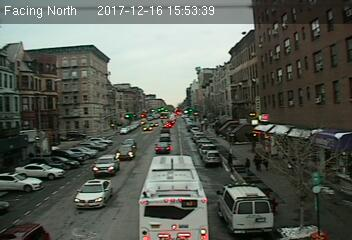bus: (137, 155, 210, 240)
car: (74, 178, 112, 207), (92, 155, 120, 175), (201, 149, 221, 165), (115, 144, 135, 160), (154, 142, 170, 154), (158, 132, 170, 141)
pedestrian: (252, 149, 264, 171), (243, 155, 252, 177), (227, 153, 235, 173)
police: (216, 180, 276, 233)
